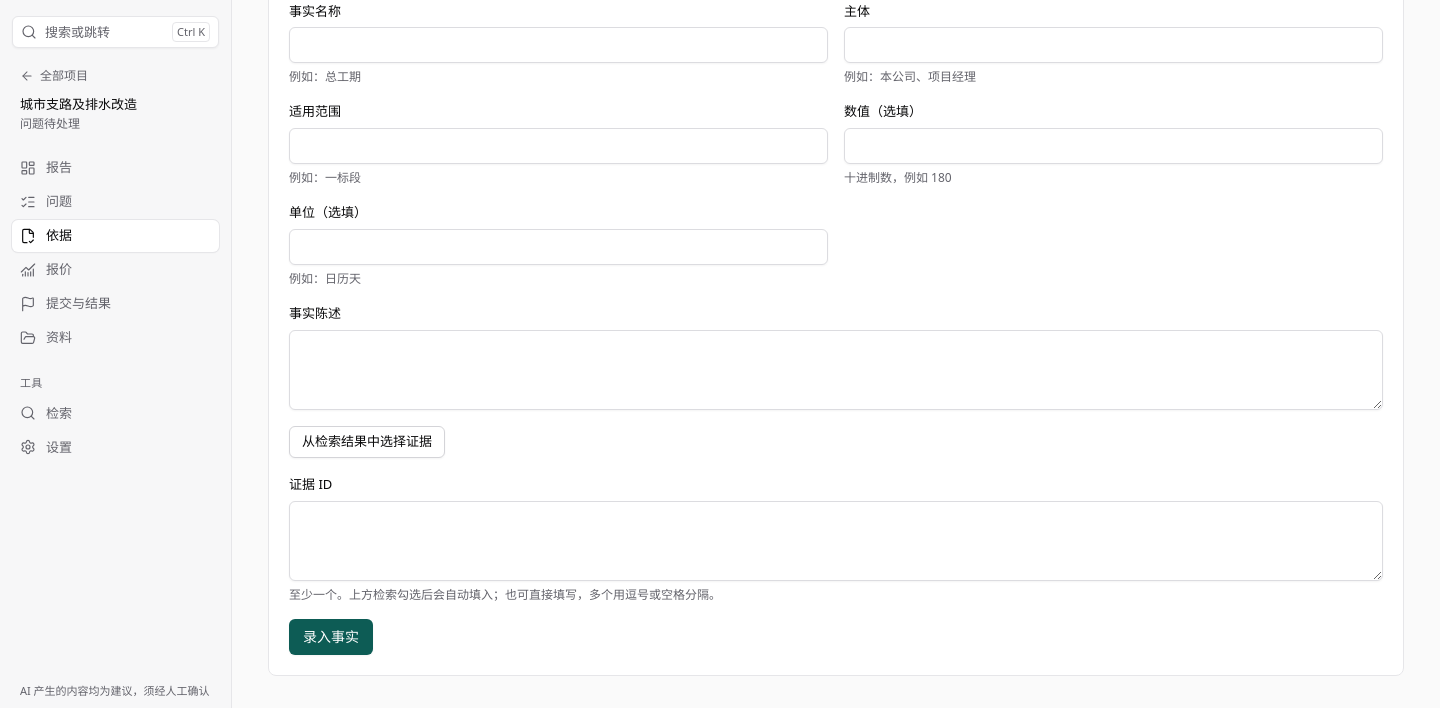
依据页：事实库 › 证据选择器：检索并勾选，把证据 ID 写入文本框（保留手填内容），可取消勾选
(page scrolled)
Step 1. Type "evd-manual" into the text box labelled "证据 ID" → (836, 541), box [289,501,1383,581]
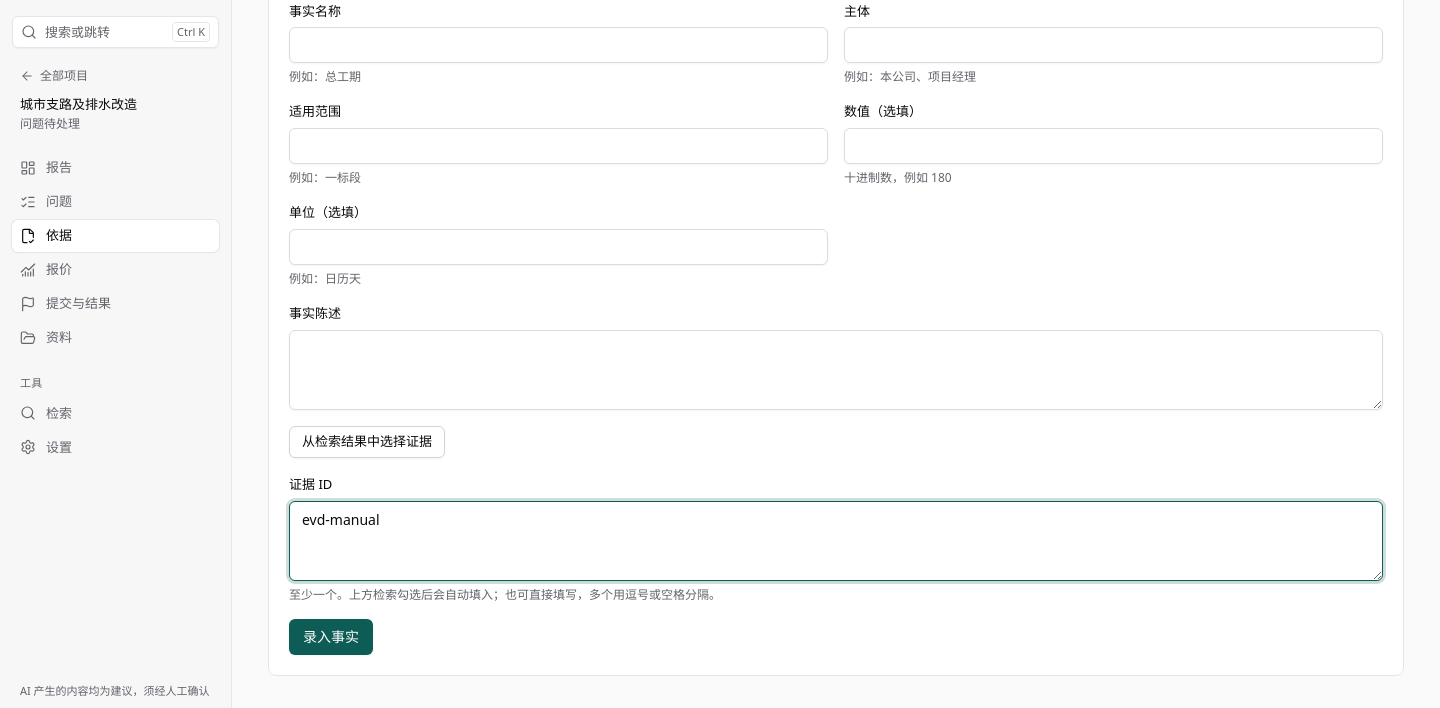
Step 2. Click the button "从检索结果中选择证据" → (367, 442), box [289,426,445,458]
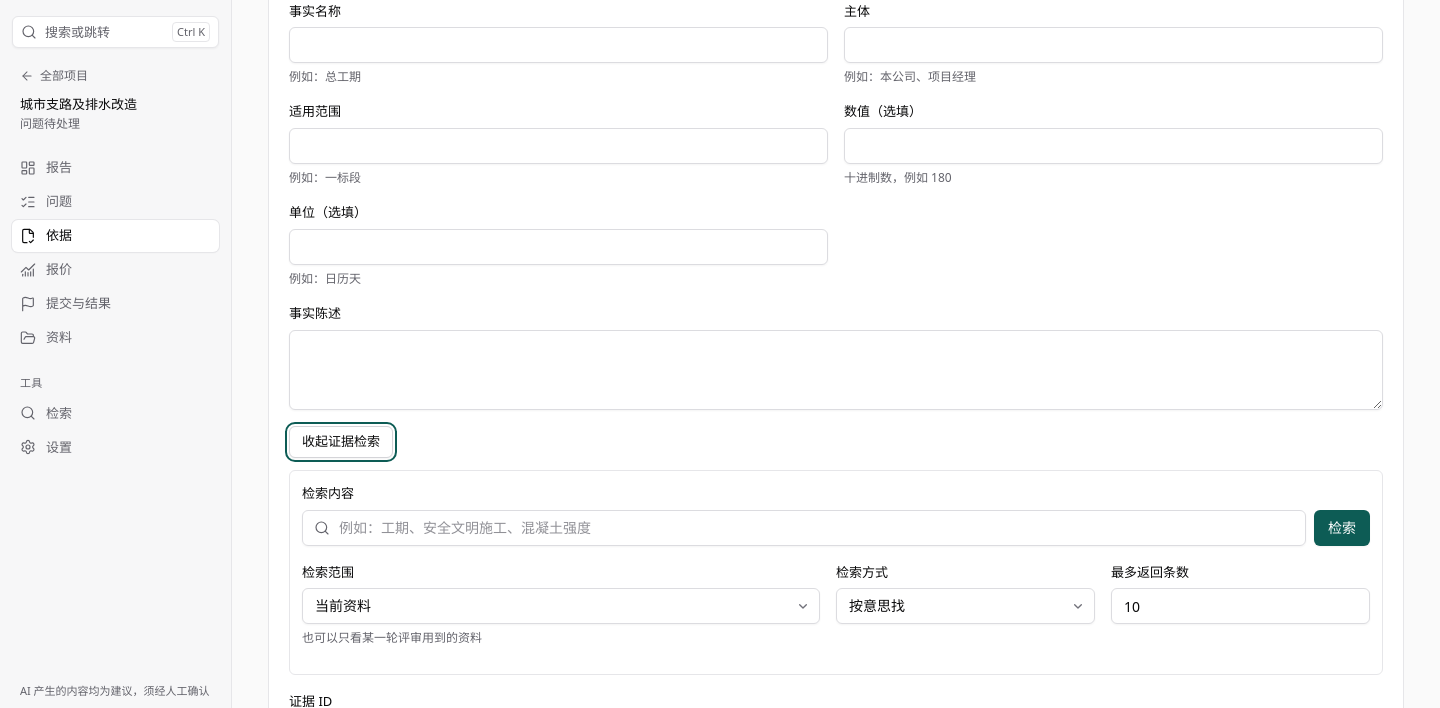
Step 3. Type "工期" into the field labelled "检索内容" → (804, 528), box [302,510,1306,546]
Then press Enter
(page scrolled)
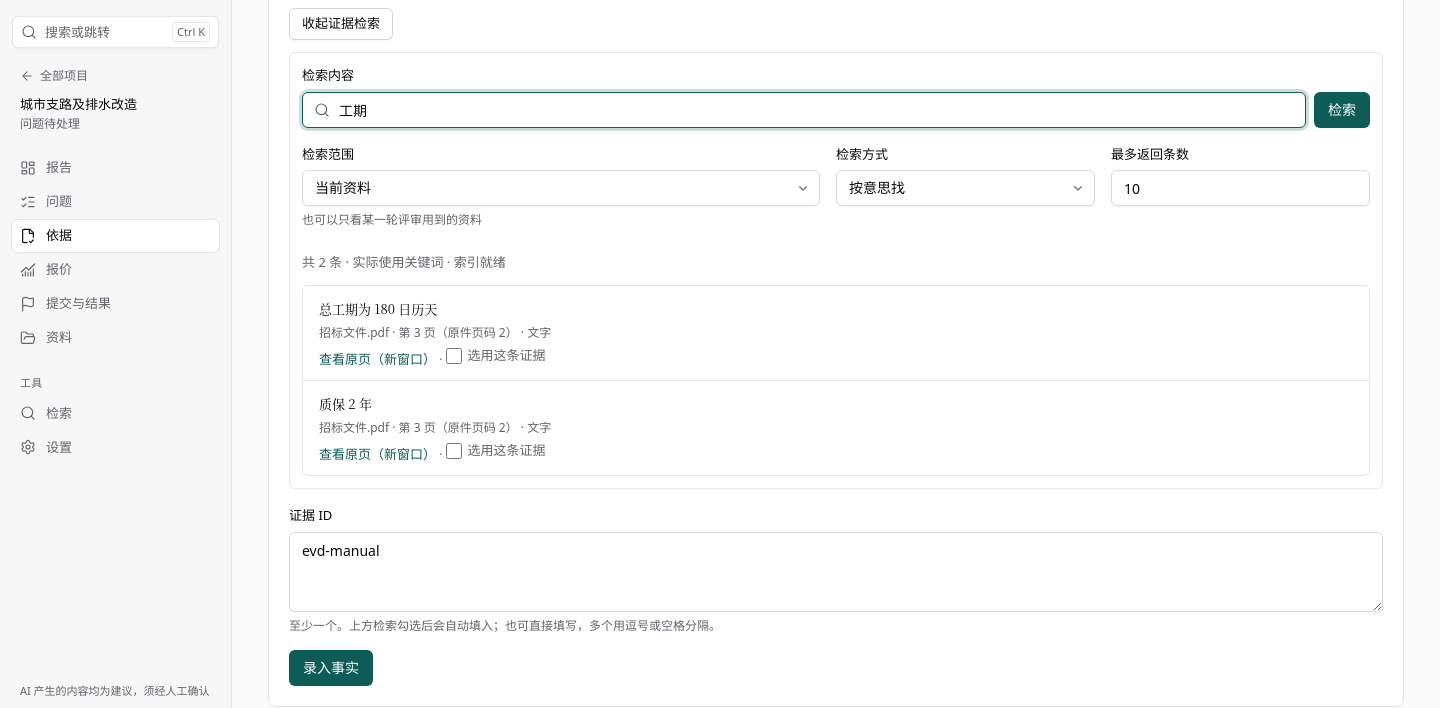
Now the number of checkboxes labelled "选用这条证据" is 2
Step 4. Click the checkbox labelled "选用这条证据" below "总工期为 180 日历天" → (454, 356), box [446,348,462,364]
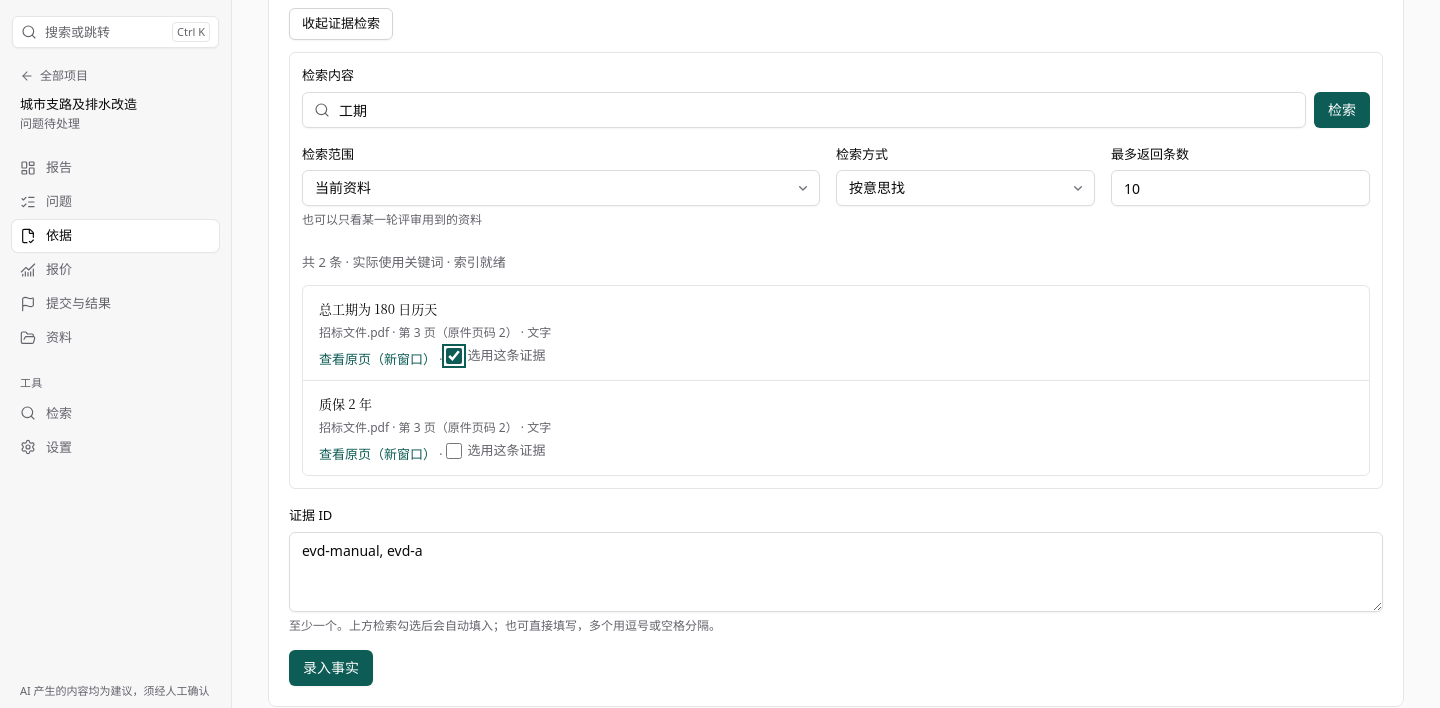
Step 5. Click the checkbox labelled "选用这条证据" below "质保 2 年" → (454, 451), box [446,443,462,459]
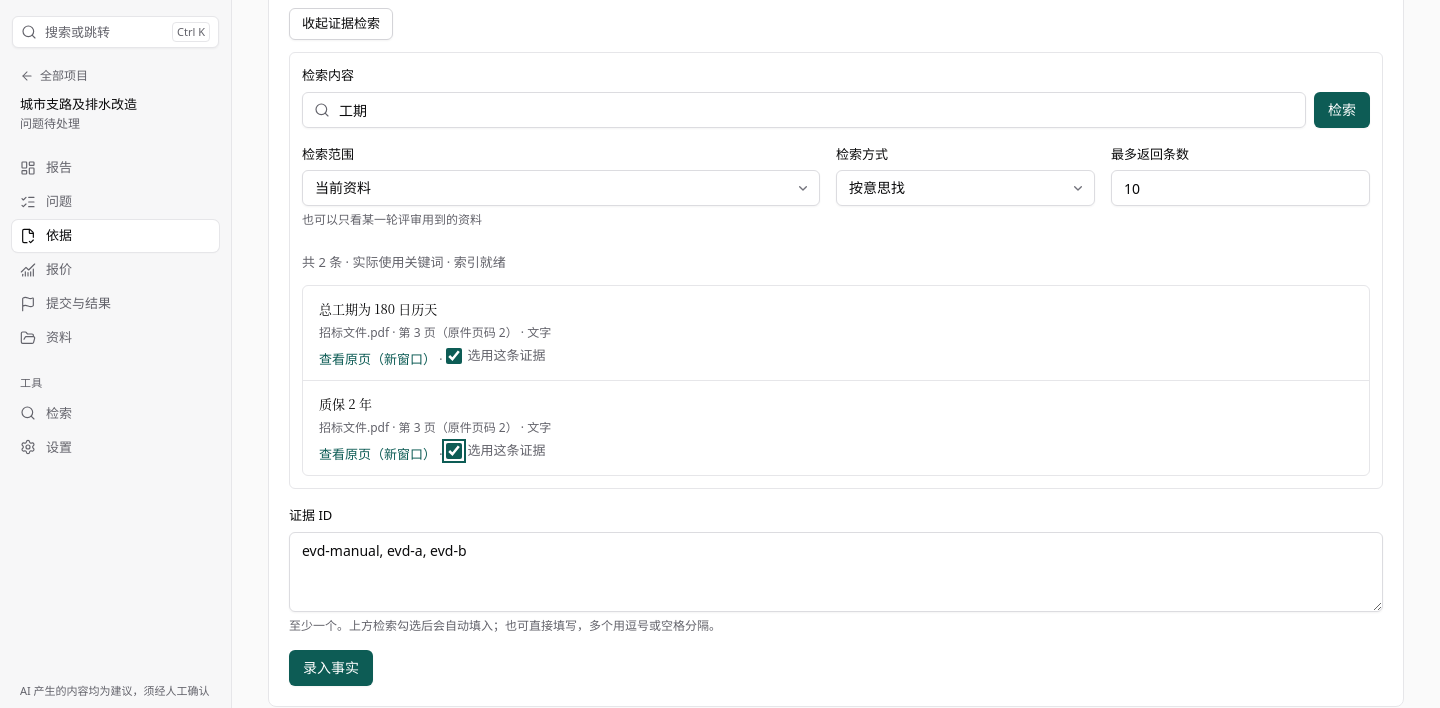
Now the text box labelled "证据 ID" holds "evd-manual, evd-a, evd-b", box [289,532,1383,612]
Step 6. Click the checkbox labelled "选用这条证据" below "总工期为 180 日历天" → (454, 356), box [446,348,462,364]
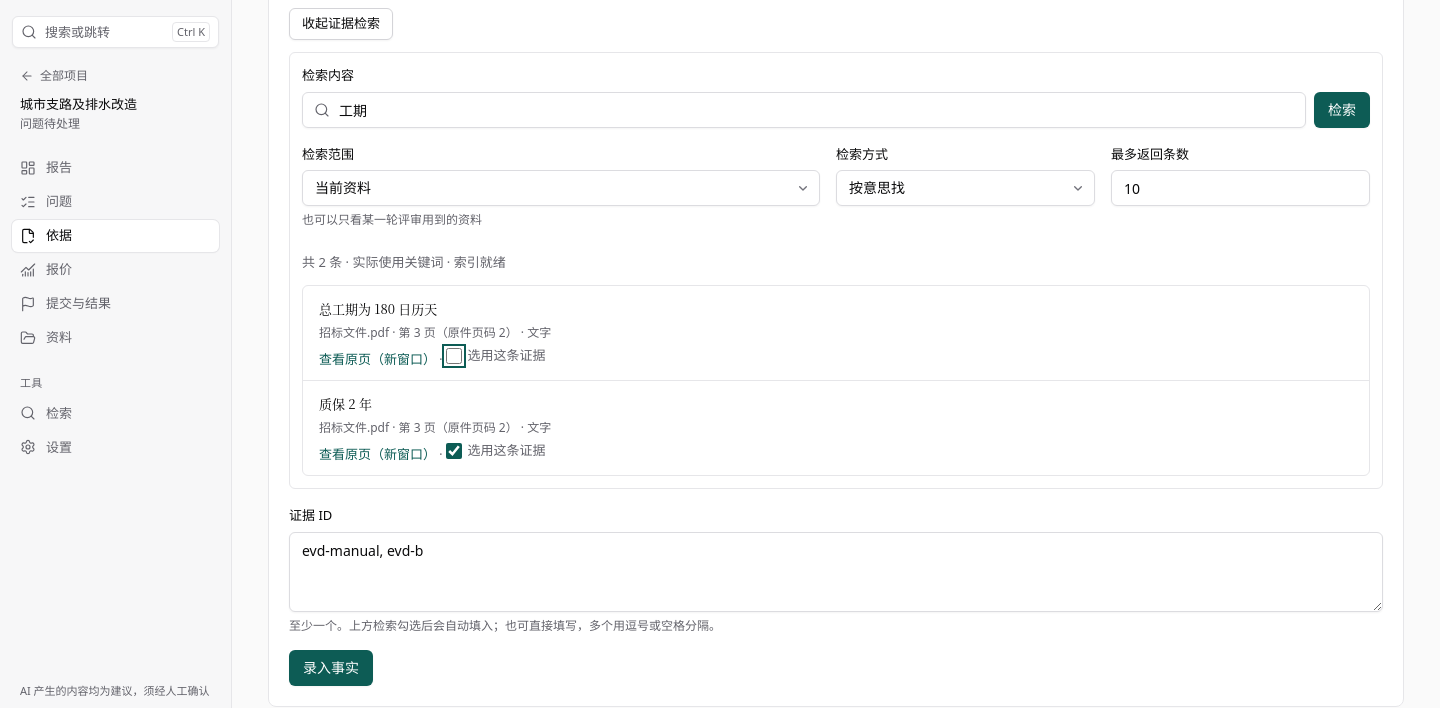
Now the text box labelled "证据 ID" holds "evd-manual, evd-b", box [289,532,1383,612]
